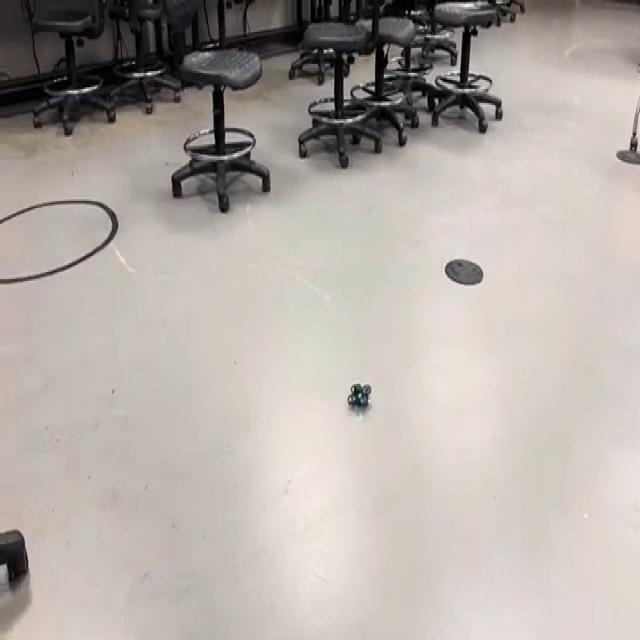drone: (338, 367, 379, 423)
